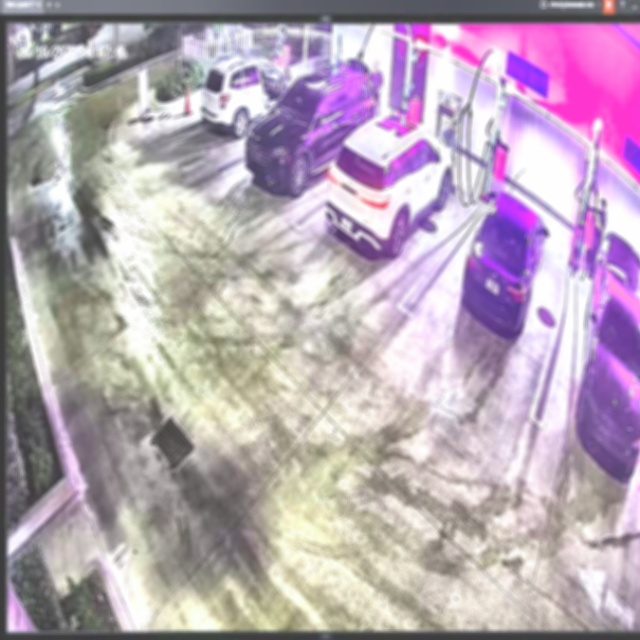Car: (326, 114, 454, 257), (245, 64, 376, 198), (464, 191, 548, 337)
